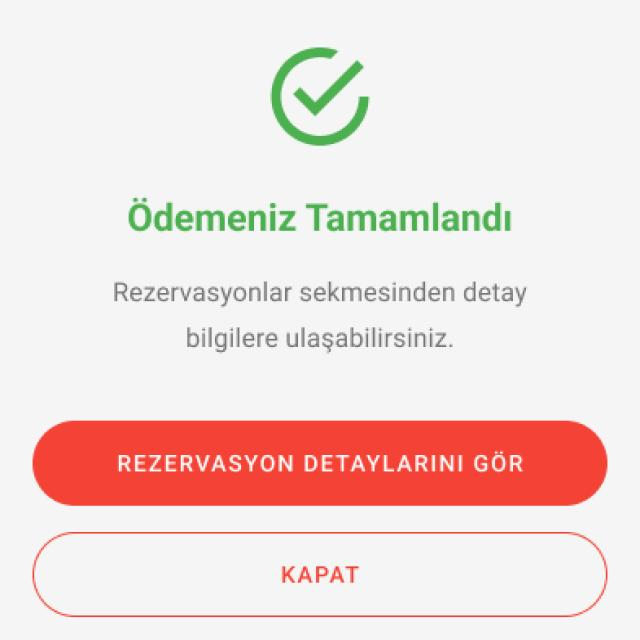QLabel: (109, 279, 529, 354), (124, 195, 516, 238), (105, 448, 534, 478), (272, 560, 362, 588)
VBtn: (32, 530, 609, 619), (32, 420, 609, 507)
VImg: (266, 40, 378, 147)
